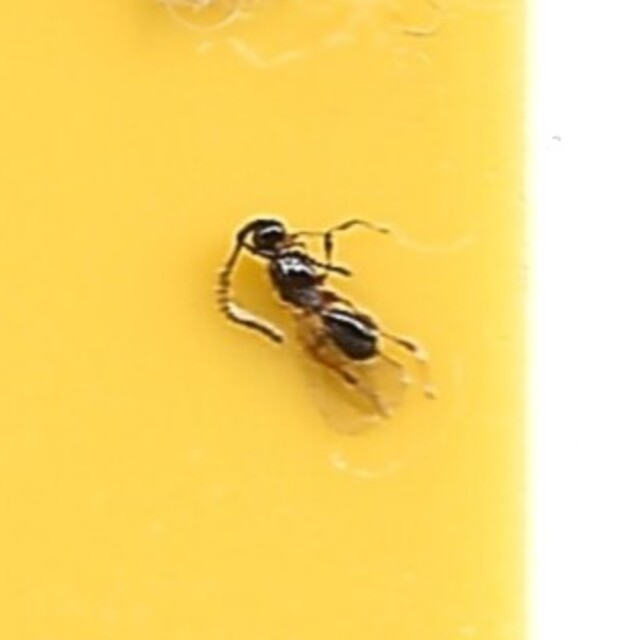Hymenoptera: (203, 207, 437, 433)
